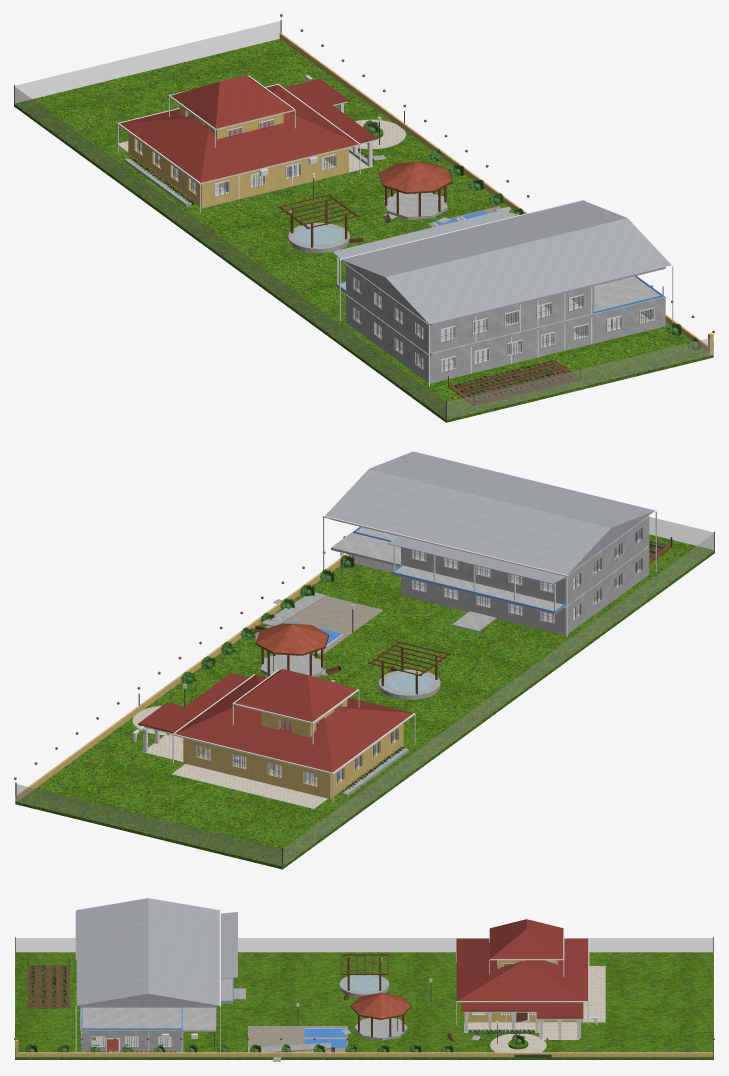
File: exterior.glb
The picture shows the model from 3 angles, top to bottom: view 1: azimuth 30°, elevation 25°; view 2: azimuth 150°, elevation 25°; view 3: azimuth 270°, elevation 25°; orthographic projection. The views are drawn at different scales.
Parts seen in each view (by area): view 1: lote, gris_techo, amarilla_techo, cerca_3, gris_muro.006, cerca_2, cerca_0, gris_muro.019, amarilla_p2_techo, amarilla_muro, gris_muro.002, gris_muro.015 (+14 smaller); view 2: lote, gris_techo, amarilla_techo, cerca_3, cerca_2, amarilla_p2_techo, amarilla_muro.008, gris_muro.001, gris_muro.014, estac_grava, gris_muro.015, gris_muro.002 (+15 smaller); view 3: lote, gris_techo, amarilla_techo, cerca_3, murete_1, amarilla_p2_techo, gris_terraza_piso, estac_grava, gris_muro.011, huerto_tierra, gris_p2_losa, balcon_alero (+16 smaller).
Part boxes in pixels (bbox=[...]): lote: bbox=[14, 39, 713, 422]; gris_techo: bbox=[341, 200, 671, 324]; amarilla_techo: bbox=[120, 85, 358, 182]; cerca_3: bbox=[14, 85, 445, 419]; gris_muro.006: bbox=[431, 299, 665, 382]; cerca_2: bbox=[15, 20, 281, 102]; cerca_0: bbox=[445, 338, 709, 419]; gris_muro.019: bbox=[431, 286, 594, 352]; amarilla_p2_techo: bbox=[171, 75, 293, 128]; amarilla_muro: bbox=[204, 148, 348, 207]; gris_muro.002: bbox=[346, 294, 431, 383]; gris_muro.015: bbox=[346, 265, 431, 353]; lote: bbox=[15, 534, 714, 869]; gris_techo: bbox=[325, 451, 655, 574]; amarilla_techo: bbox=[175, 674, 413, 772]; cerca_3: bbox=[282, 533, 714, 866]; cerca_2: bbox=[15, 782, 281, 866]; amarilla_p2_techo: bbox=[235, 669, 356, 721]; amarilla_muro.008: bbox=[183, 738, 328, 798]; gris_muro.001: bbox=[401, 577, 563, 634]; gris_muro.014: bbox=[401, 547, 563, 604]; estac_grava: bbox=[252, 596, 383, 654]; gris_muro.015: bbox=[563, 516, 649, 605]; gris_muro.002: bbox=[563, 546, 649, 635]; lote: bbox=[15, 952, 713, 1059]; gris_techo: bbox=[76, 898, 219, 1005]; amarilla_techo: bbox=[456, 938, 588, 1000]; cerca_3: bbox=[16, 937, 713, 952]; murete_1: bbox=[18, 1052, 713, 1057]; amarilla_p2_techo: bbox=[490, 919, 563, 958]; gris_terraza_piso: bbox=[82, 1007, 181, 1028]; estac_grava: bbox=[248, 1026, 347, 1052]; gris_muro.011: bbox=[83, 1032, 183, 1052]; huerto_tierra: bbox=[28, 966, 69, 1008]; gris_p2_losa: bbox=[80, 1007, 215, 1031]; balcon_alero: bbox=[221, 912, 237, 979].
Size of the model in its own units: 31.19 by 9.4 by 84.28.
Materials: 47 (18 with a texture image).
